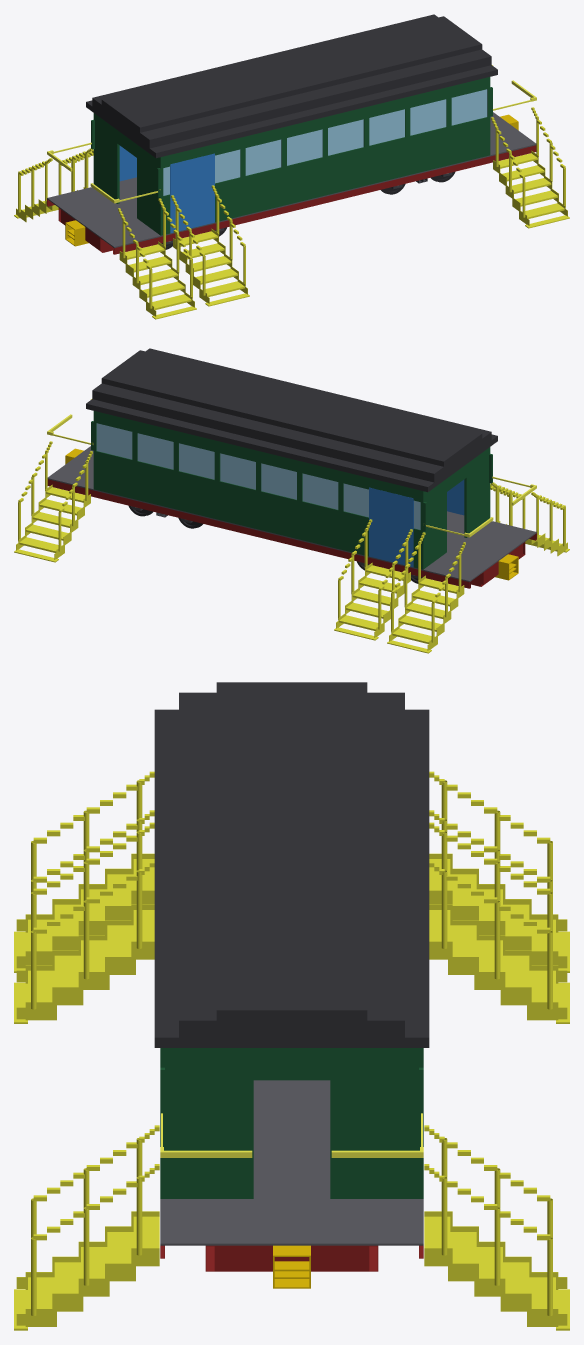
The model's file is PF-C300A_coach_accessible_stairs_deployed.glb.
3 renders of one model, top to bottom at view 1: azimuth 30°, elevation 25°; view 2: azimuth 150°, elevation 25°; view 3: azimuth 270°, elevation 25°, orthographic. The views are drawn at different scales.
Visible parts, largest first — view 1: 141 roof clerestory, 114 side wall lower (HSS2x2x1-8 frame + skin), 140 roof crown, 094 floor 1 in composite panel, 139 roof eave, 115 side wall upper - letter board, 159 42 in accessible side door (both sides), 087 side sill HSS6x2x3-16, 133 end wall (32 in centred door), 134 end wall (32 in centred door), 127 window (polycarbonate), 131 window (polycarbonate) (+7 smaller); view 2: 141 roof clerestory, 095 side wall lower (HSS2x2x1-8 frame + skin), 140 roof crown, 094 floor 1 in composite panel, 139 roof eave, 096 side wall upper - letter board, 158 42 in accessible side door (both sides), 081 side sill HSS6x2x3-16, 134 end wall (32 in centred door), 133 end wall (32 in centred door), 108 window (polycarbonate), 112 window (polycarbonate) (+7 smaller); view 3: 141 roof clerestory, 140 roof crown, 094 floor 1 in composite panel, 139 roof eave, 137 end wall (32 in centred door), 136 end wall (32 in centred door), 003 end sill HSS12x4x1-4, 138 end wall over door, 091 coach rear drop drawbar box PL16, 259 S2 tread 2 PL6 formed channel 280 go, abrasive nosing, 403 S2 tread 2 PL6 formed channel 280 go, abrasive nosing, 217 S1 tread 4 PL6 formed channel 280 go, abrasive nosing (+5 smaller).
Boxes of the visible parts, <box> form: 141 roof clerestory: <box>101,16,482,132</box>; 114 side wall lower (HSS2x2x1-8 frame + skin): <box>159,117,490,235</box>; 140 roof crown: <box>92,14,491,148</box>; 094 floor 1 in composite panel: <box>47,112,536,248</box>; 139 roof eave: <box>86,65,497,158</box>; 115 side wall upper - letter board: <box>159,77,490,168</box>; 159 42 in accessible side door (both sides): <box>170,153,214,233</box>; 087 side sill HSS6x2x3-16: <box>113,145,536,254</box>; 133 end wall (32 in centred door): <box>93,113,119,203</box>; 134 end wall (32 in centred door): <box>137,145,162,234</box>; 127 window (polycarbonate): <box>245,139,281,175</box>; 131 window (polycarbonate): <box>410,99,446,135</box>; 141 roof clerestory: <box>101,350,482,466</box>; 095 side wall lower (HSS2x2x1-8 frame + skin): <box>93,451,424,569</box>; 140 roof crown: <box>92,348,491,482</box>; 094 floor 1 in composite panel: <box>47,446,536,582</box>; 139 roof eave: <box>86,399,497,492</box>; 096 side wall upper - letter board: <box>93,411,424,502</box>; 158 42 in accessible side door (both sides): <box>369,487,413,567</box>; 081 side sill HSS6x2x3-16: <box>47,479,470,588</box>; 134 end wall (32 in centred door): <box>464,448,490,537</box>; 133 end wall (32 in centred door): <box>421,479,446,569</box>; 108 window (polycarbonate): <box>302,473,338,509</box>; 112 window (polycarbonate): <box>137,433,173,469</box>; 141 roof clerestory: <box>216,682,367,1020</box>; 140 roof crown: <box>179,692,404,1037</box>; 094 floor 1 in composite panel: <box>160,1080,423,1245</box>; 139 roof eave: <box>154,709,429,1047</box>; 137 end wall (32 in centred door): <box>160,1048,253,1198</box>; 136 end wall (32 in centred door): <box>330,1048,423,1198</box>; 003 end sill HSS12x4x1-4: <box>215,1245,368,1271</box>; 138 end wall over door: <box>253,1048,330,1080</box>; 091 coach rear drop drawbar box PL16: <box>273,1245,310,1288</box>; 259 S2 tread 2 PL6 formed channel 280 go, abrasive nosing: <box>450,925,476,956</box>; 403 S2 tread 2 PL6 formed channel 280 go, abrasive nosing: <box>107,925,133,956</box>; 217 S1 tread 4 PL6 formed channel 280 go, abrasive nosing: <box>503,1262,529,1293</box>.
Size of the model in its own units: 10660 by 3339 by 5894.
